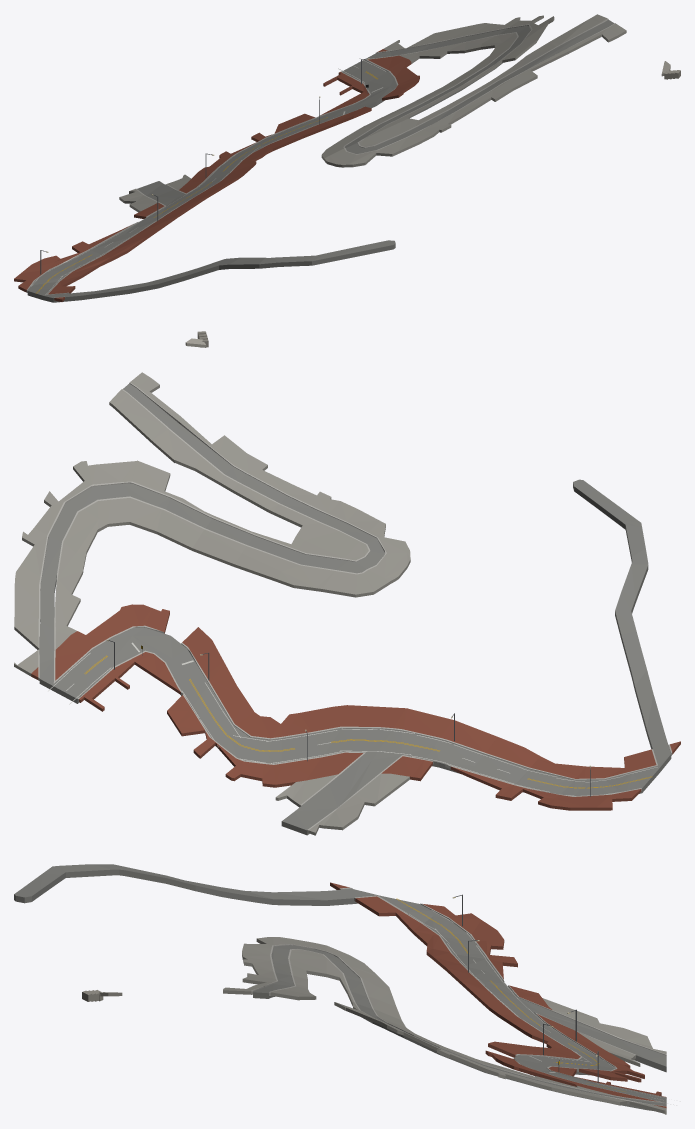
3 views of the same model, one above another, from view 1: azimuth 30°, elevation 25°; view 2: azimuth 150°, elevation 25°; view 3: azimuth 270°, elevation 25° (orthographic). The views are drawn at different scales.
Bounding box in the file's own units: 148 × 56.5 × 125.
